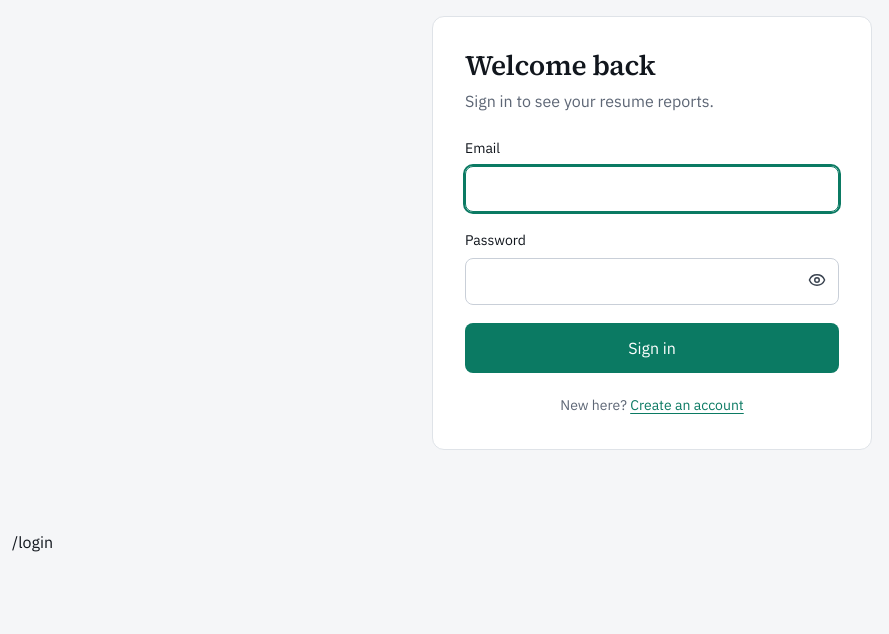
Test: Login › shows the server's message when credentials are wrong and re-enables the form
Type "priya@example.com" into the field labelled "Email" at point(652, 189), box x1=465 y1=166 x2=839 y2=212
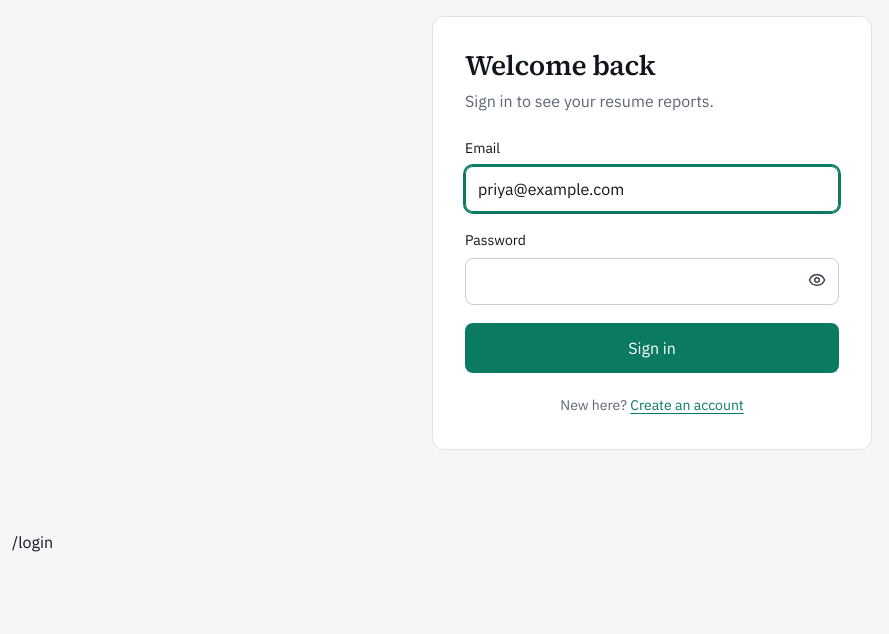
Type "nope" into the password field labelled "Password" at point(652, 282), box x1=465 y1=258 x2=839 y2=305
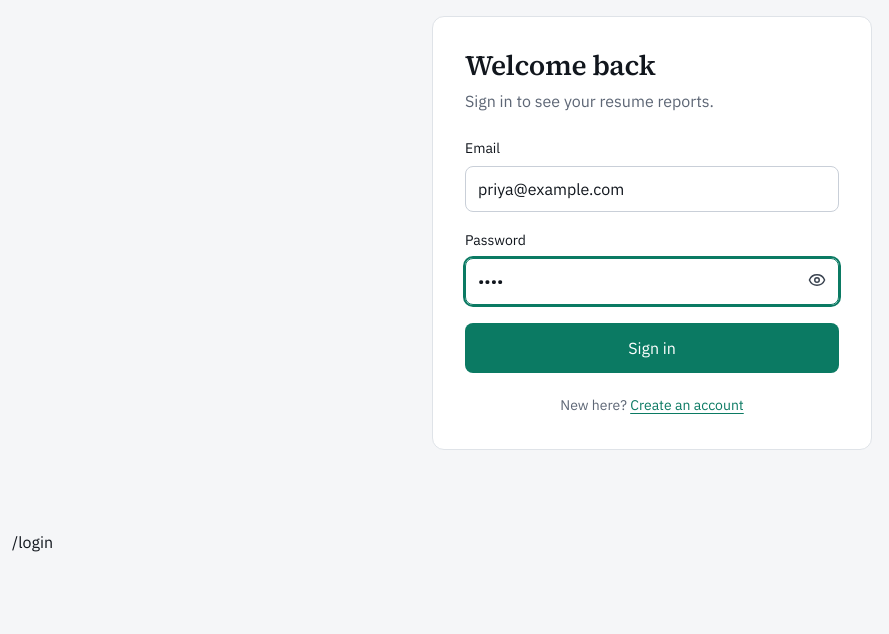
Click the button "Sign in" at point(652, 348), box x1=465 y1=323 x2=839 y2=373
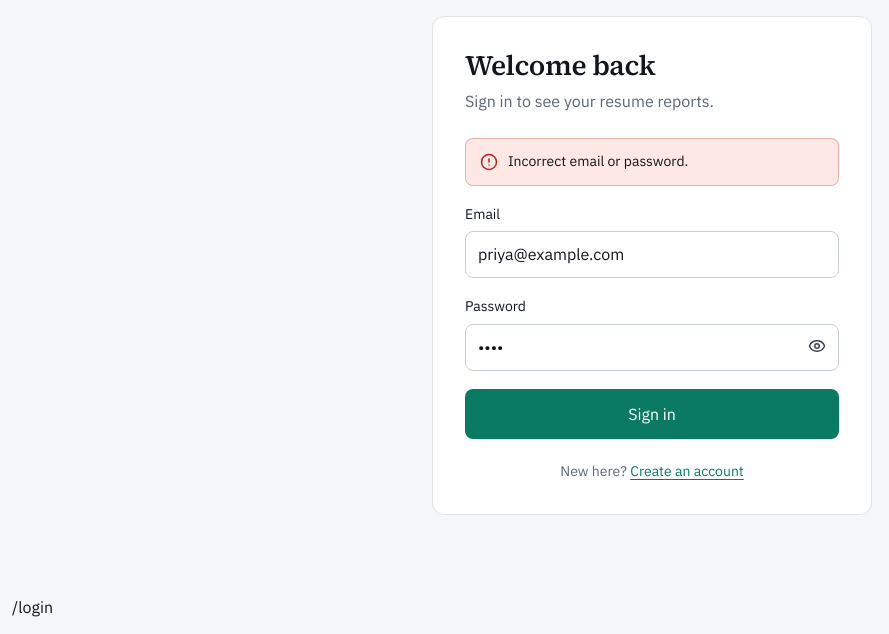
Expected: the button "Sign in" is enabled, x1=465 y1=389 x2=839 y2=439
Result: the message reads "Incorrect email or password." at x1=508 y1=152 x2=688 y2=170
